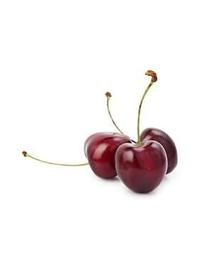cherry: (115, 140, 167, 194), (82, 131, 131, 180), (133, 127, 178, 175)
